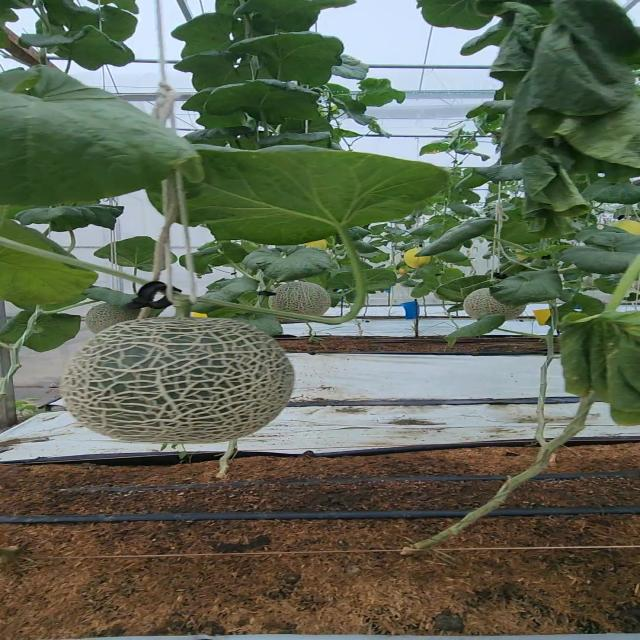Melon: (58, 315, 300, 446), (264, 279, 336, 317), (460, 286, 508, 322)
